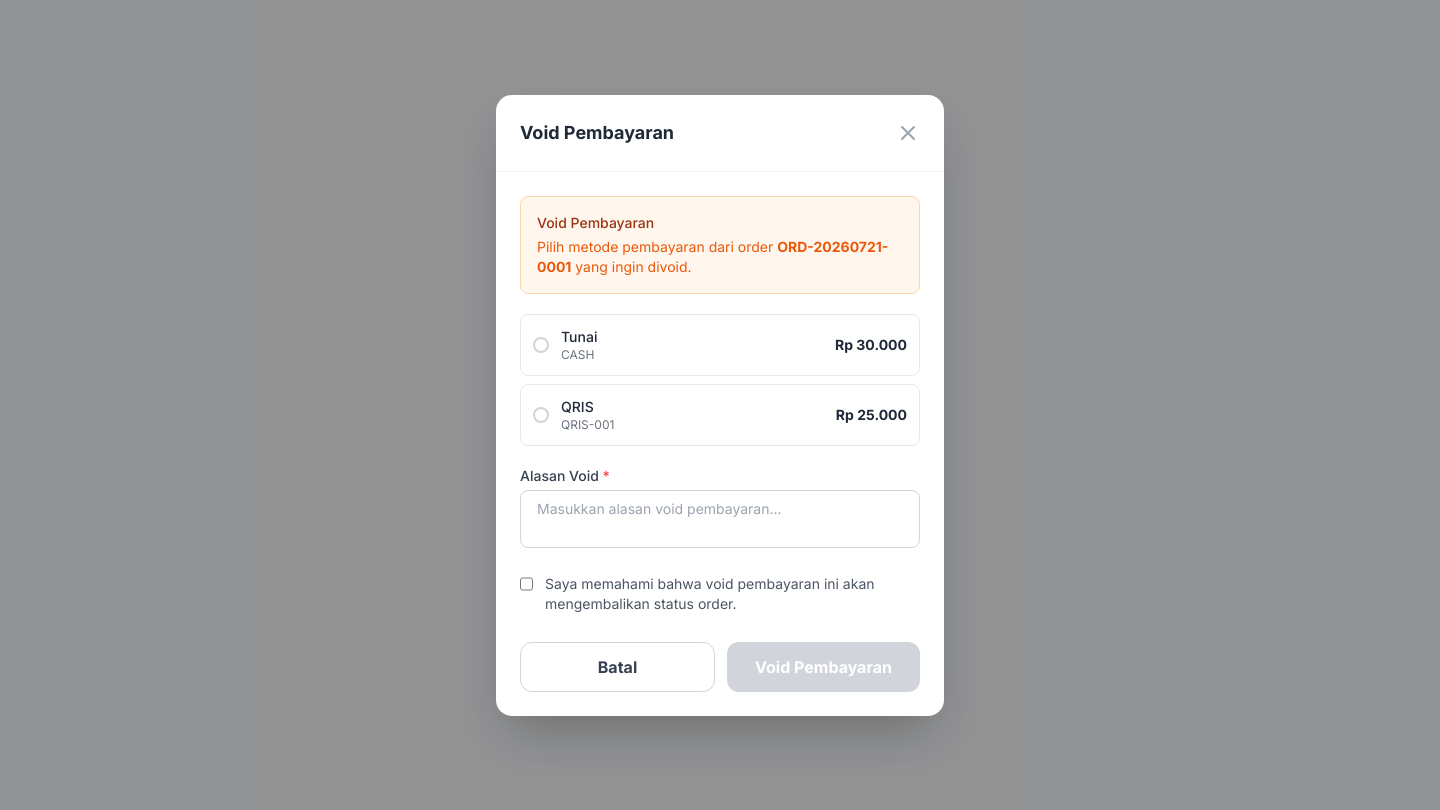
Test: VoidPayment › displays error state on API failure
The width and height of the screenshot is (1440, 810).
Click the text "Tunai".
click(579, 336)  # box [561, 328, 597, 344]
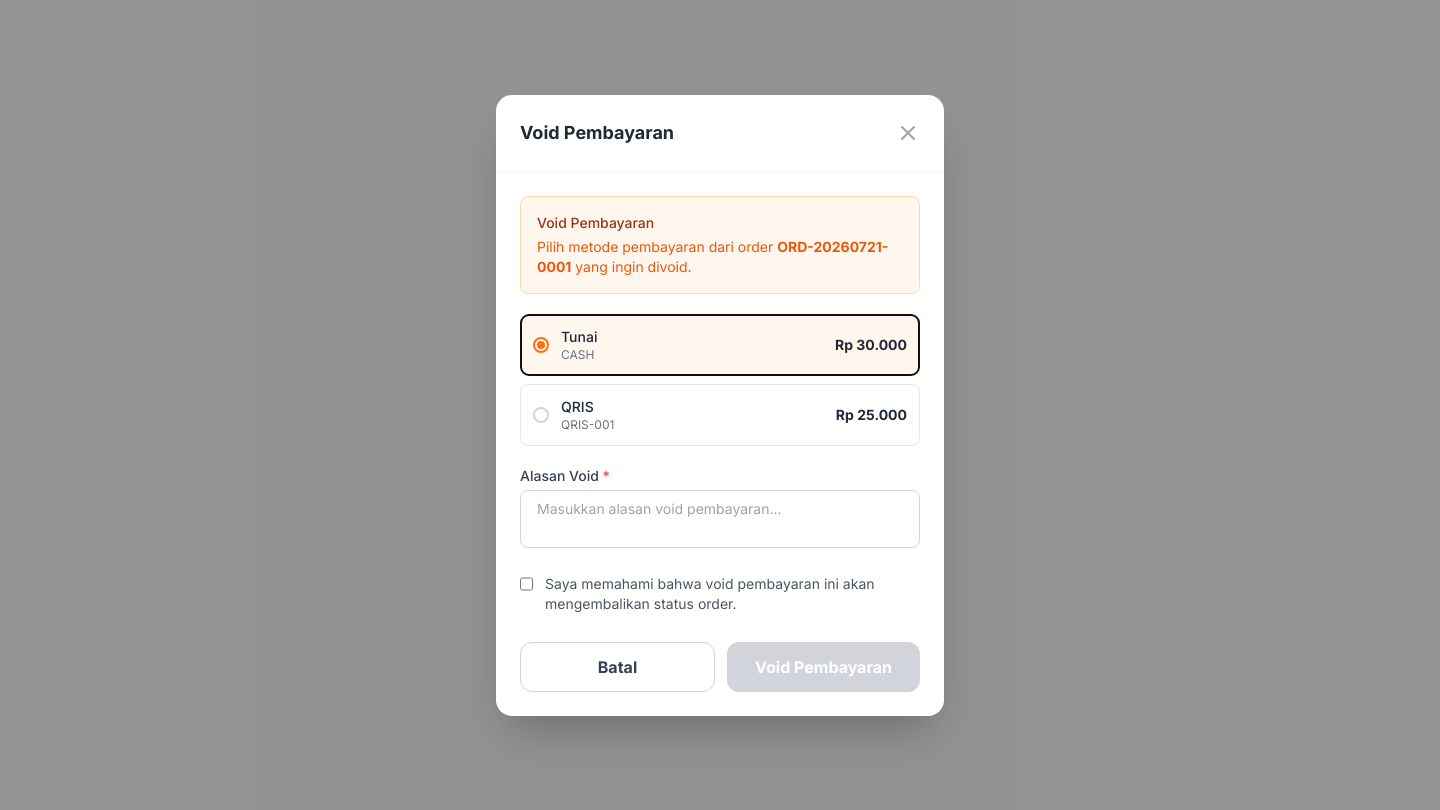
Type "Test" into the text box with placeholder "Masukkan alasan void pembayaran...".
click(720, 518); type("Test")  # box [520, 490, 920, 548]
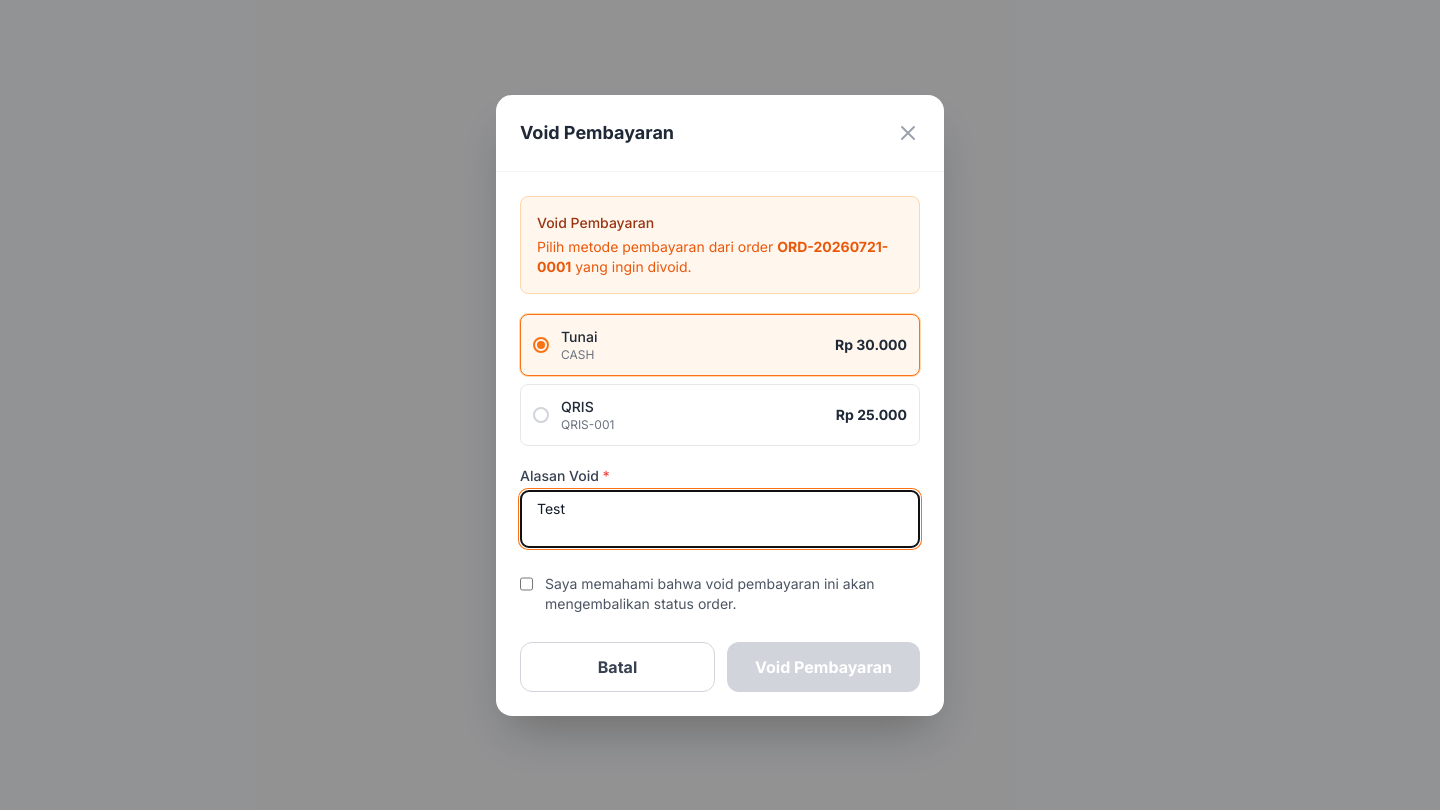
Click the checkbox.
click(526, 584)  # box [520, 576, 533, 592]
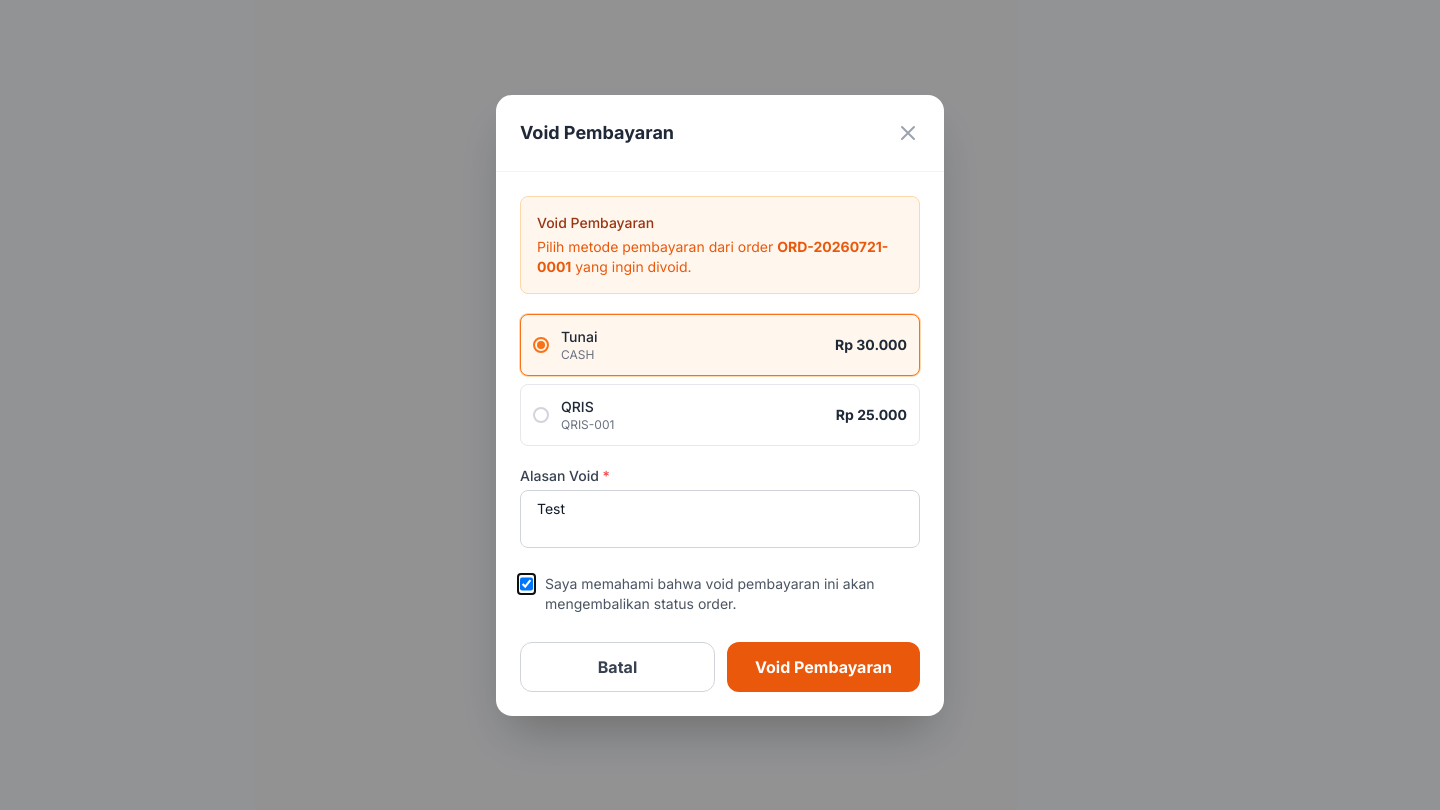
Click the button "Void Pembayaran".
click(824, 666)  # box [727, 642, 920, 692]
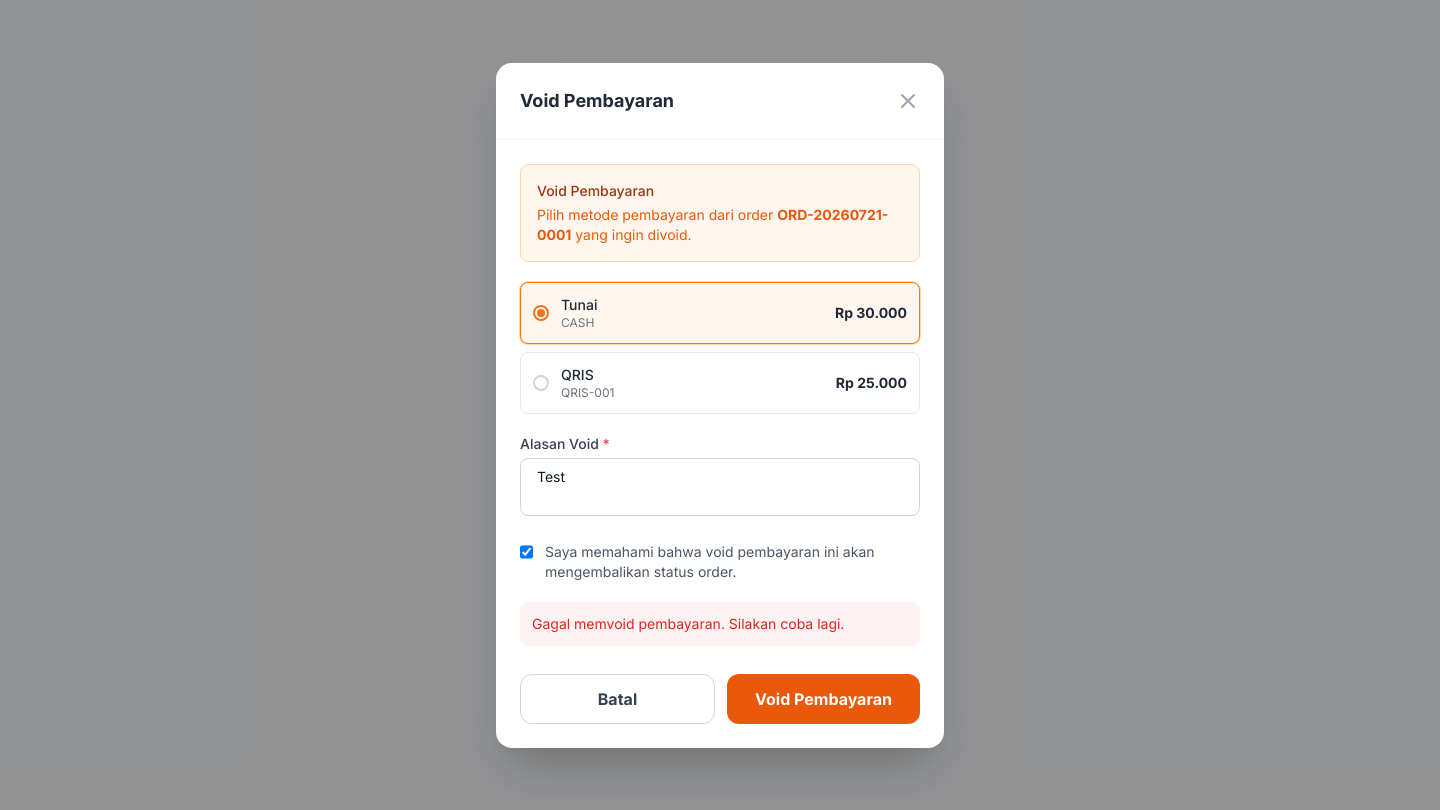
expect the text "Gagal memvoid pembayaran. Silakan coba lagi." is shown: met, box [532, 614, 844, 632]
